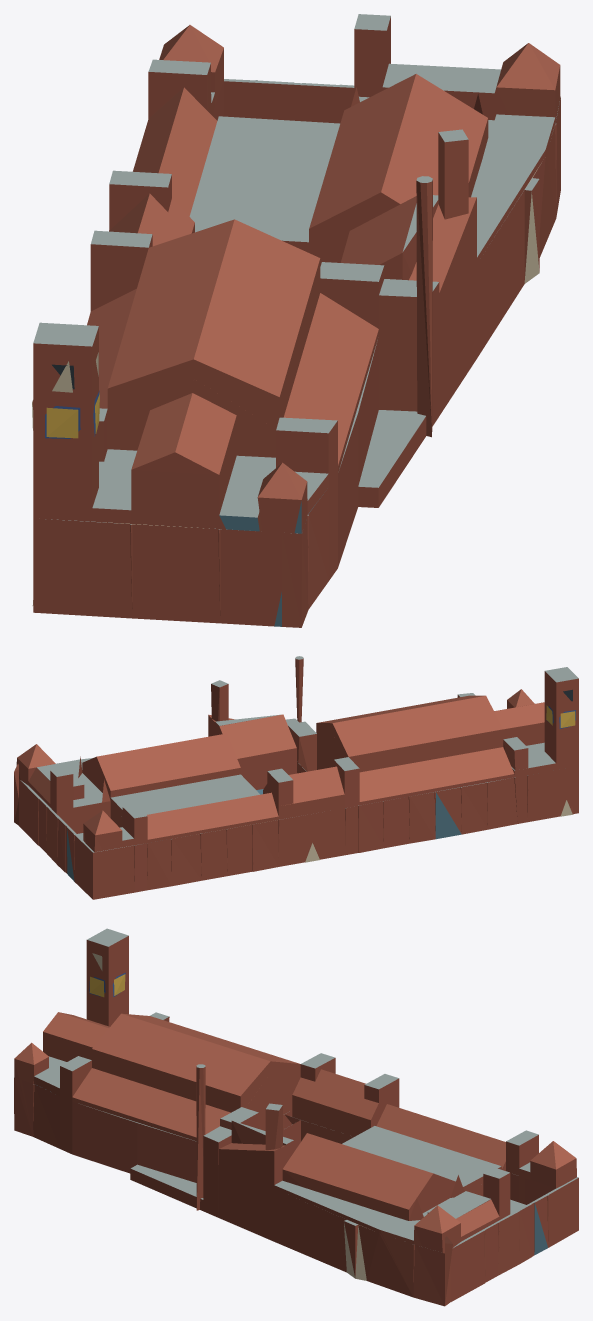
The model's file is de-beurs-van-berlage.lod2.glb.
3 views of the same model, one above another, from view 1: azimuth 30°, elevation 25°; view 2: azimuth 150°, elevation 25°; view 3: azimuth 270°, elevation 25° (orthographic). The views are drawn at different scales.
Parts seen in each view (by area): view 1: lod2; view 2: lod2; view 3: lod2.
Part boxes in pixels (x1,y1,x2,y2): lod2: (32,14,560,627); lod2: (14,656,578,899); lod2: (14,928,578,1306).
Bounding box in the file's own units: 129 × 40 × 136.
